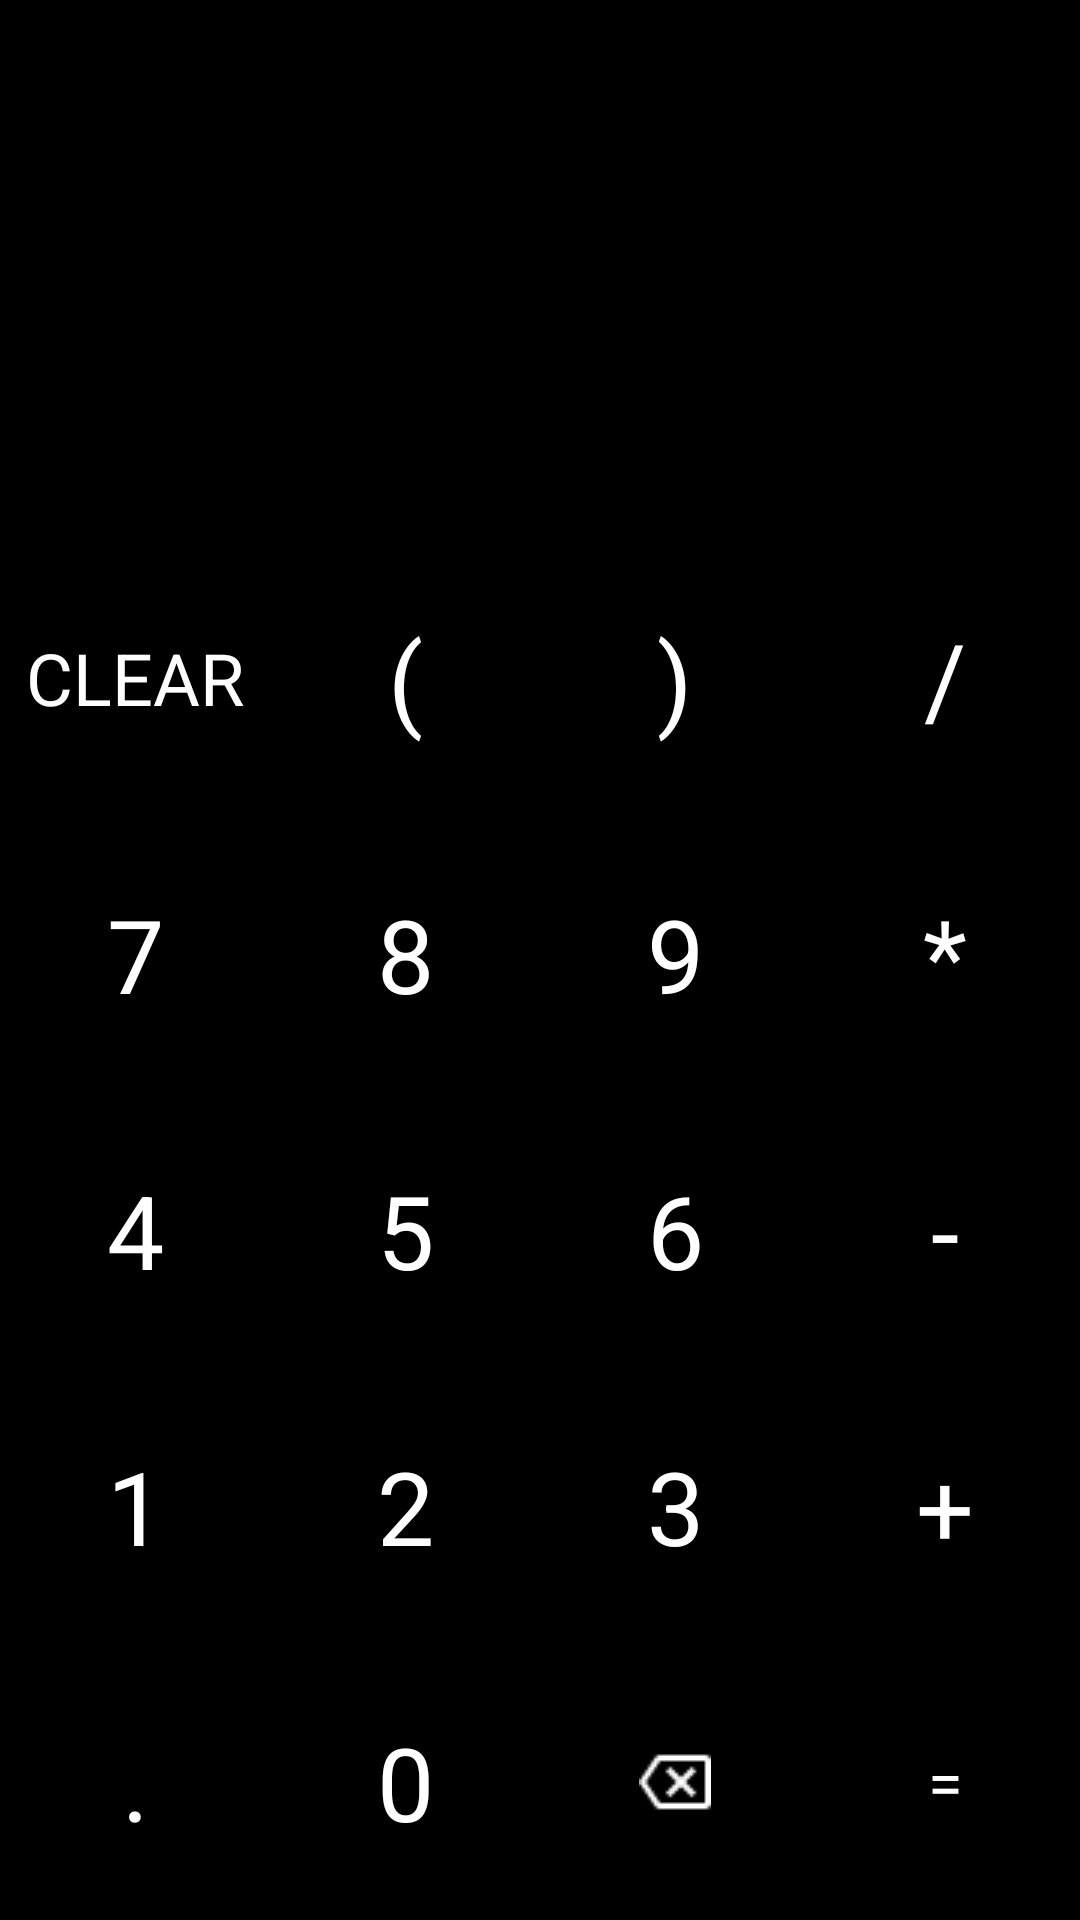

Point at icon controls on the screen. Image size 1080px×1920px, points as (x,y).
back: (675,1782)
